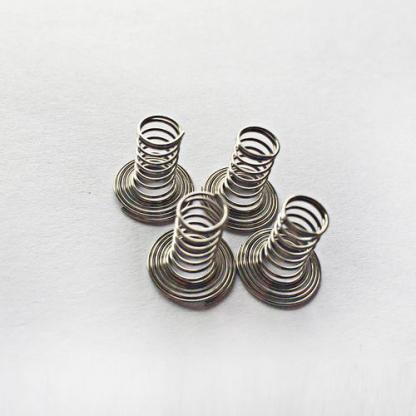FOD: (145, 186, 238, 311), (236, 195, 332, 314), (111, 113, 199, 228), (196, 121, 284, 235)
